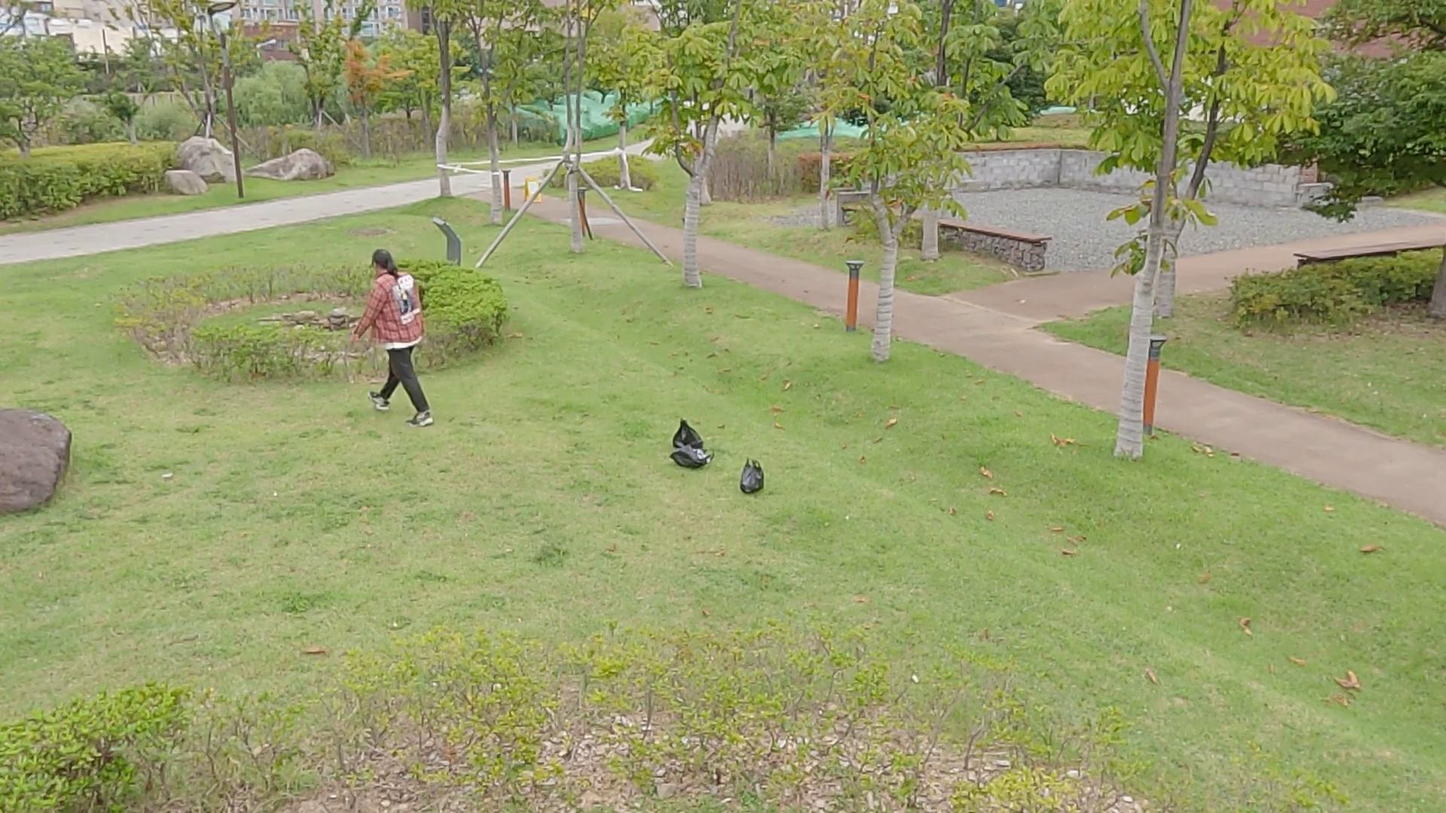person: (348, 251, 436, 429)
trash: (667, 437, 717, 471), (671, 416, 704, 454), (739, 456, 765, 495)
